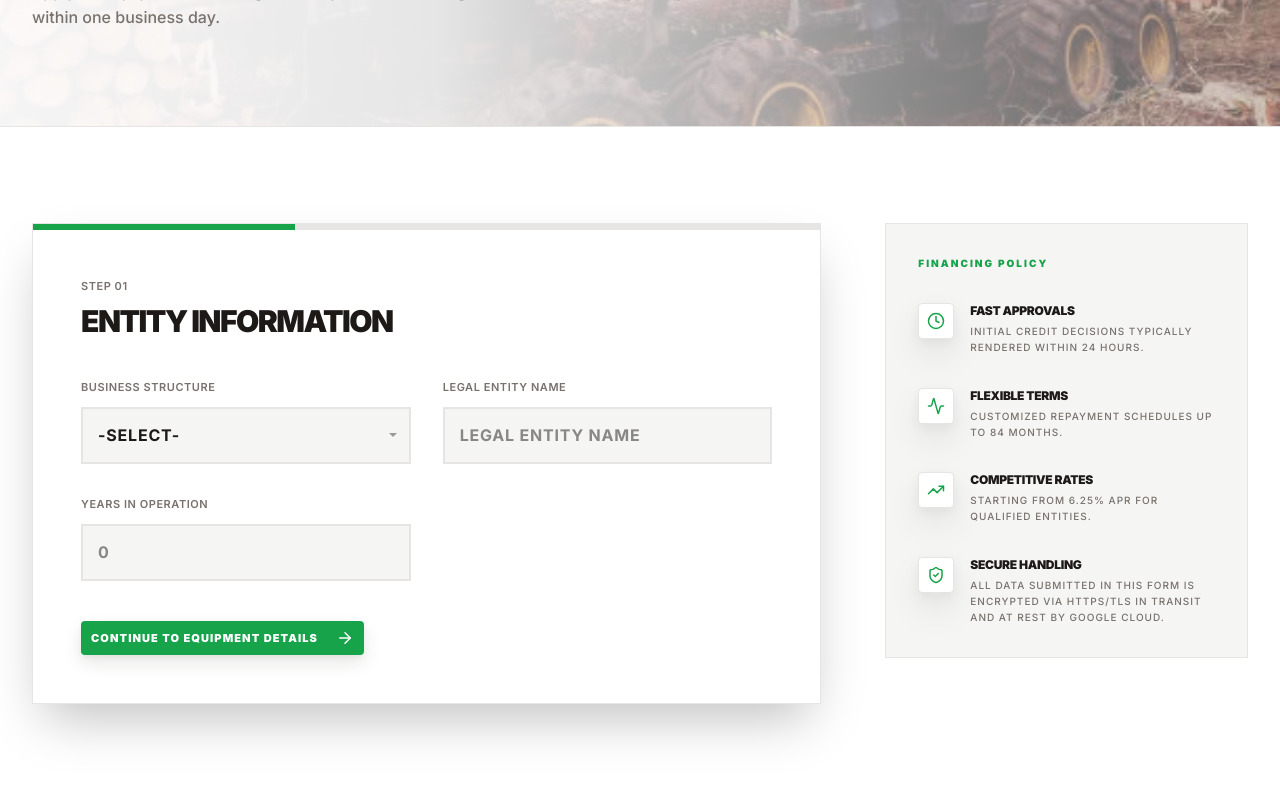
Test: Financing component › requires the financing contact consent before submission
(page scrolled)
Click the button "Continue to Equipment Details".
click(223, 638)  # box x1=81 y1=621 x2=364 y2=655
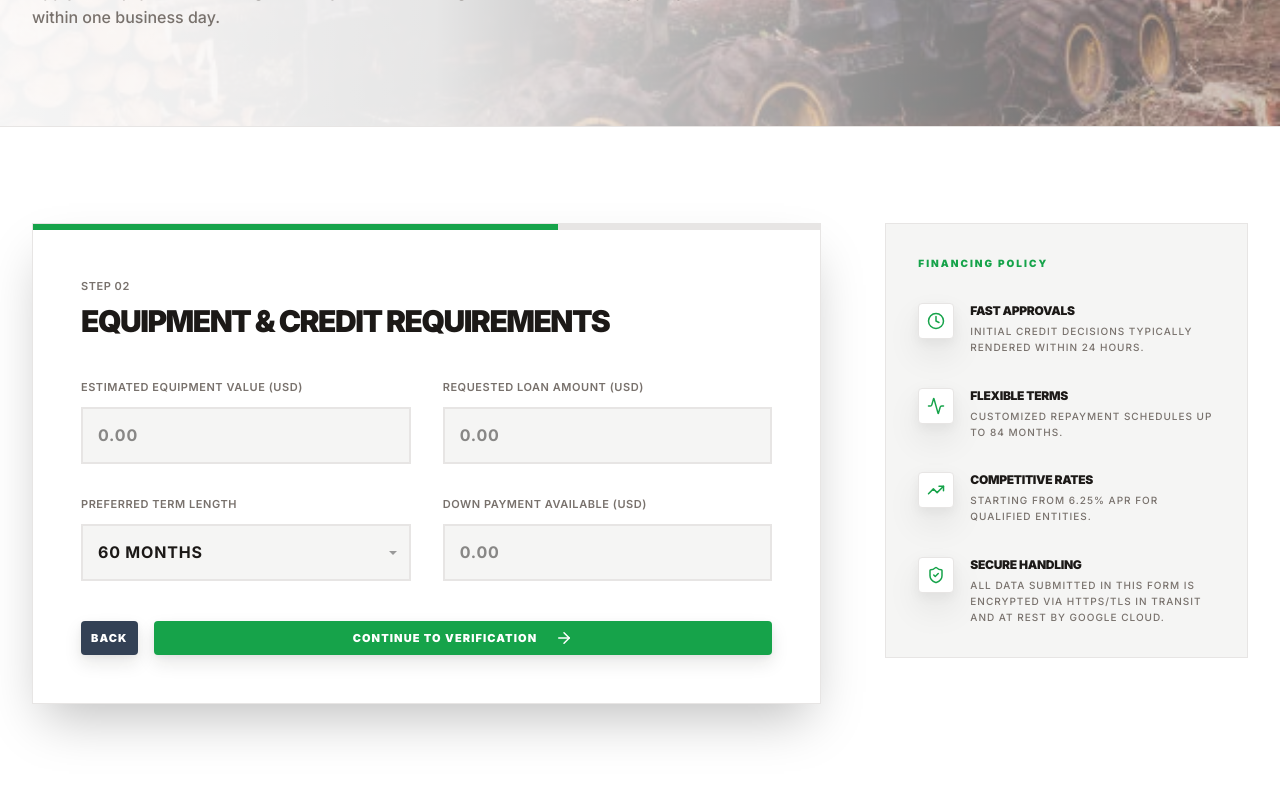
Check: the heading "Equipment & Credit Requirements" is shown, box x1=81 y1=302 x2=609 y2=338
Click the button "Continue to Verification".
click(463, 638)  # box x1=154 y1=621 x2=772 y2=655
(page scrolled)
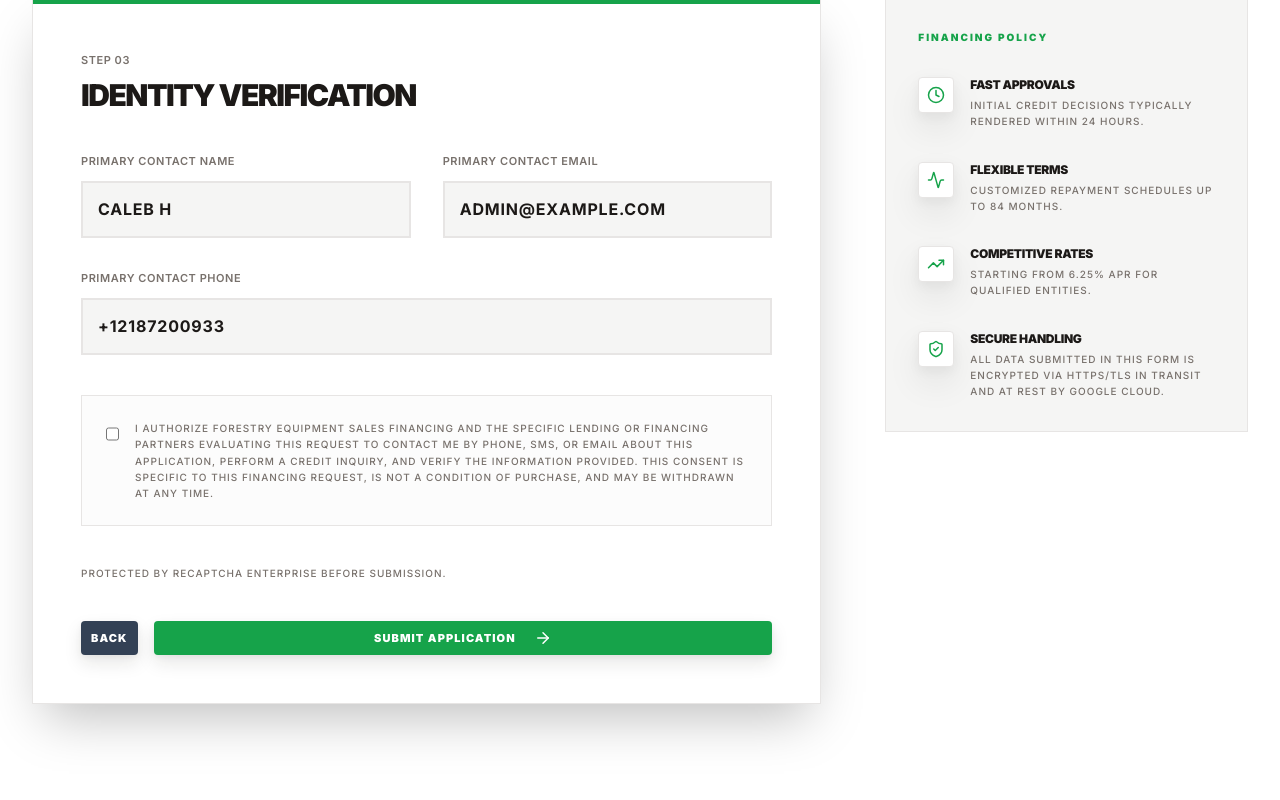
Check: the heading "Identity Verification" is shown, box x1=81 y1=76 x2=416 y2=112
Click the button "Submit Application".
click(463, 638)  # box x1=154 y1=621 x2=772 y2=655
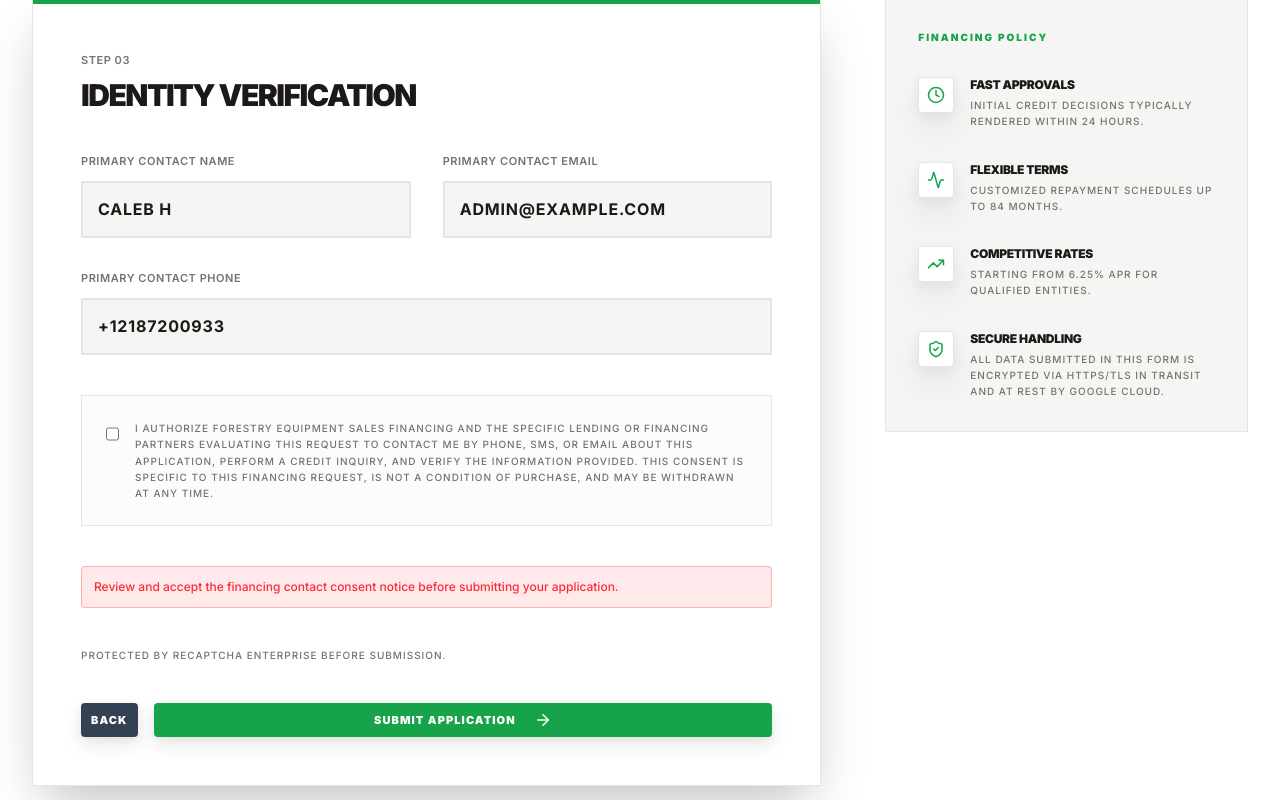
Check: the text "Review and accept the financing contact consent notice" is shown, box x1=94 y1=579 x2=618 y2=594
